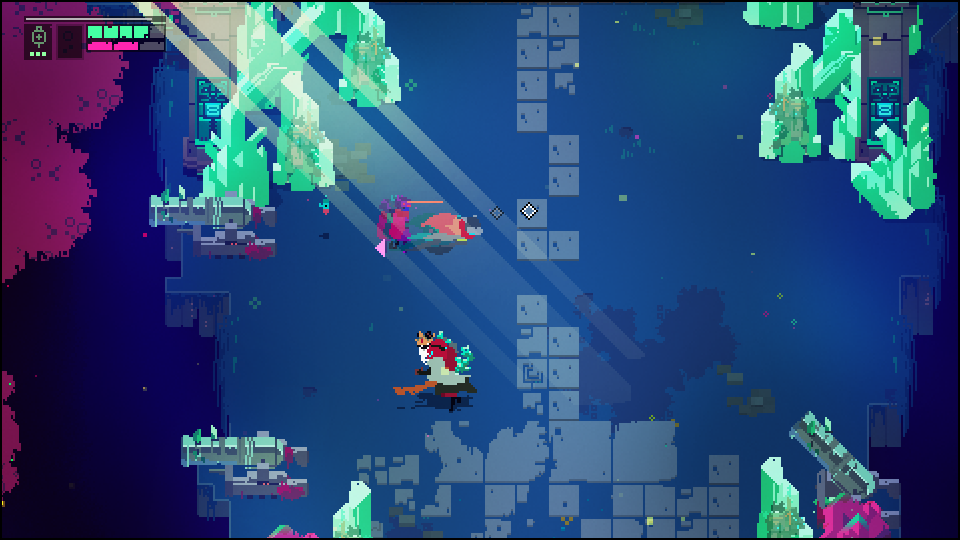hanged_man: (396, 331, 475, 407)
player: (406, 217, 483, 244)
